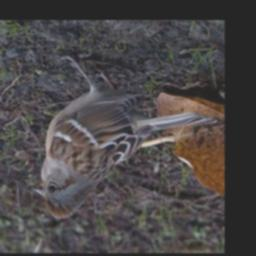Sparrow: (29, 50, 219, 222)
